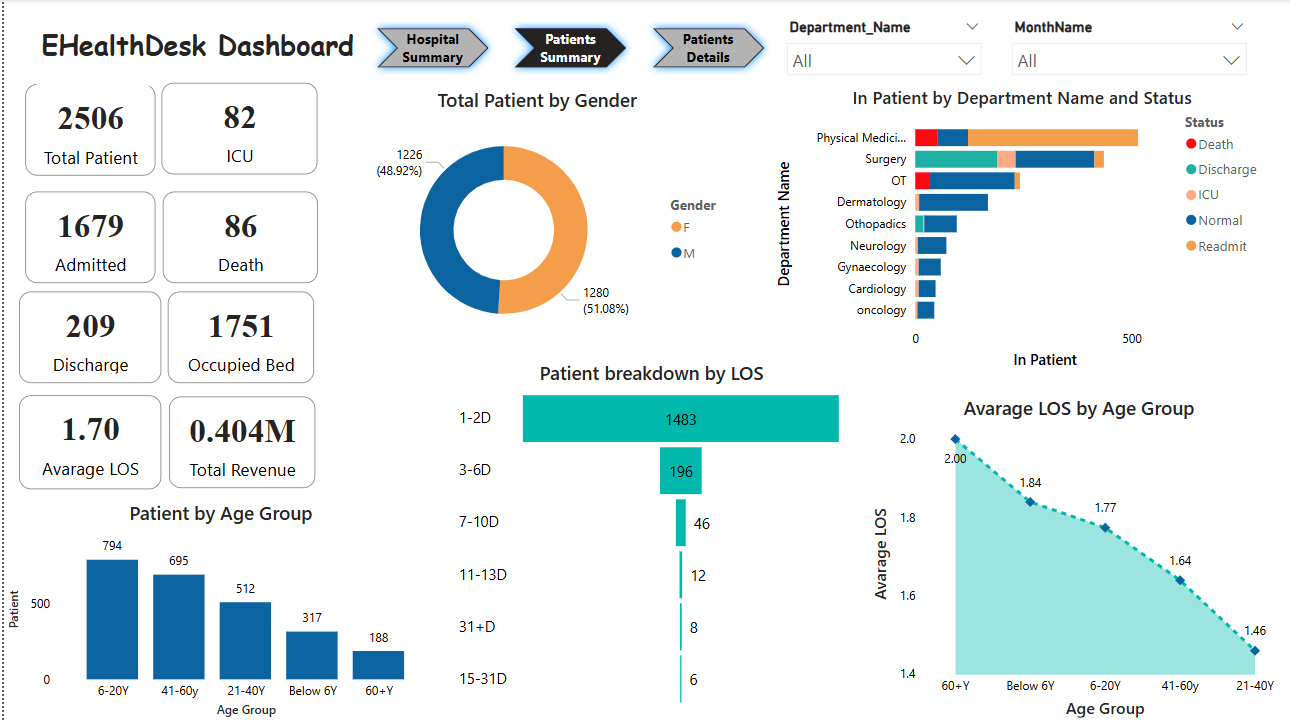

What the dashboard file says about the page in this screenshot:
{"tool":"powerbi","page":{"name":"Patients Summary ","canvas":[1280,720],"ordinal":1},"visuals":[{"type":"cardVisual","fields":{"Data":["Measure.Total Patient"]},"box":[21.1,84.6,129.4,90.8],"z":0},{"type":"textbox","box":[32.9,20.6,330.4,65.8],"z":1000},{"type":"slicer","fields":{"Values":["Department.Department_Name"]},"box":[769.2,15.1,213.9,71.3],"z":2000},{"type":"slicer","fields":{"Values":["Calendar_date.MonthName"]},"box":[992.6,15.1,253.6,71.3],"z":3000},{"type":"cardVisual","fields":{"Data":["Measure.In Patient"]},"box":[21.1,191.6,129.4,90.8],"z":4000},{"type":"cardVisual","fields":{"Data":["Measure.Total Discharge"]},"box":[14.9,291.1,141.8,90.8],"z":5000},{"type":"cardVisual","fields":{"Data":["Measure.Avarage LOS"]},"box":[14.9,394.3,141.8,93.3],"z":6000},{"type":"cardVisual","fields":{"Data":["Measure.ICU"]},"box":[156.7,83.3,155.5,90.8],"z":7000},{"type":"cardVisual","fields":{"Data":["Measure.Death"]},"box":[158,191.6,154.3,90.8],"z":8000},{"type":"cardVisual","fields":{"Data":["Measure.Occupied Bed"]},"box":[163,291.1,145.5,90.8],"z":9000},{"type":"cardVisual","fields":{"Data":["Measure.Total Revenue"]},"box":[164.2,395.6,145.5,90.8],"z":10000},{"type":"donutChart","fields":{"Category":["Detail data dataset.Gender"],"Y":["Measure.Total Patient"]},"box":[327.2,87.1,406.8,261.2],"z":11000},{"type":"columnChart","fields":{"Y":["Measure.Total Patient"],"Category":["Detail data dataset.Age Bucket"]},"box":[0,498.8,431.7,221.4],"z":12000},{"type":"areaChart","fields":{"Y":["Measure.Avarage LOS"],"Category":["Detail data dataset.Age Bucket"]},"box":[859.6,394.3,420.5,325.9],"z":13000},{"type":"barChart","fields":{"Category":["Department.Department_Name"],"Y":["Measure.In Patient"],"Series":["Detail data dataset.Status"]},"box":[765,85.8,496.3,287.4],"z":14000},{"type":"funnel","title":"Patient breakdown by LOS","fields":{"Y":["Measure.Total Patient"],"Category":["Detail data dataset.Custom"]},"box":[447.8,359.5,393.1,350.8],"z":15000},{"type":"pageNavigator","box":[363.1,20.8,402.2,55],"z":17000}]}

Visuals, with their boxes in screenshot pixels (x1, y1, x2, y2), scaled from the page's 1280x720 canvas onto the 1290x722 screenshot:
cardVisual - Measure.Total Patient: <box>21,85,152,176</box>
textbox: <box>33,21,366,87</box>
slicer - Department.Department_Name: <box>775,15,991,87</box>
slicer - Calendar_date.MonthName: <box>1000,15,1256,87</box>
cardVisual - Measure.In Patient: <box>21,192,152,283</box>
cardVisual - Measure.Total Discharge: <box>15,292,158,383</box>
cardVisual - Measure.Avarage LOS: <box>15,395,158,489</box>
cardVisual - Measure.ICU: <box>158,84,315,175</box>
cardVisual - Measure.Death: <box>159,192,315,283</box>
cardVisual - Measure.Occupied Bed: <box>164,292,311,383</box>
cardVisual - Measure.Total Revenue: <box>165,397,312,488</box>
donutChart - Detail data dataset.Gender x Measure.Total Patient: <box>330,87,740,349</box>
columnChart - Measure.Total Patient x Detail data dataset.Age Bucket: <box>0,500,435,721</box>
areaChart - Measure.Avarage LOS x Detail data dataset.Age Bucket: <box>866,395,1289,721</box>
barChart - Department.Department_Name x Measure.In Patient: <box>771,86,1271,374</box>
"Patient breakdown by LOS" funnel: <box>451,360,847,712</box>
pageNavigator: <box>366,21,771,76</box>
